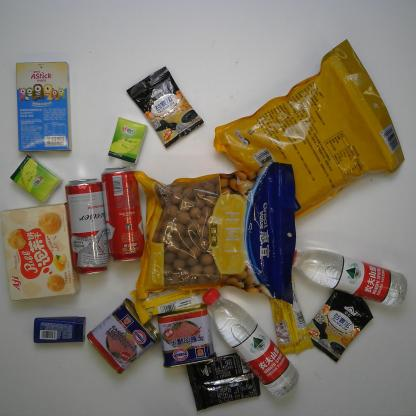Alcohol: (64, 178, 110, 275), (100, 165, 145, 263)
Canned Food: (86, 298, 162, 374), (156, 304, 217, 368)
Chocolate: (266, 275, 314, 355), (129, 288, 208, 326)
Dessert: (0, 202, 81, 302), (16, 61, 72, 153)
Dried Food: (213, 38, 405, 221), (134, 162, 297, 305)
Drink: (202, 288, 300, 398), (292, 249, 408, 308)
Instant Drink: (126, 66, 204, 148), (306, 289, 374, 363), (186, 352, 261, 412)
Personal Hygiene: (33, 316, 86, 344)
Tissue: (9, 154, 63, 204), (108, 117, 148, 164)
